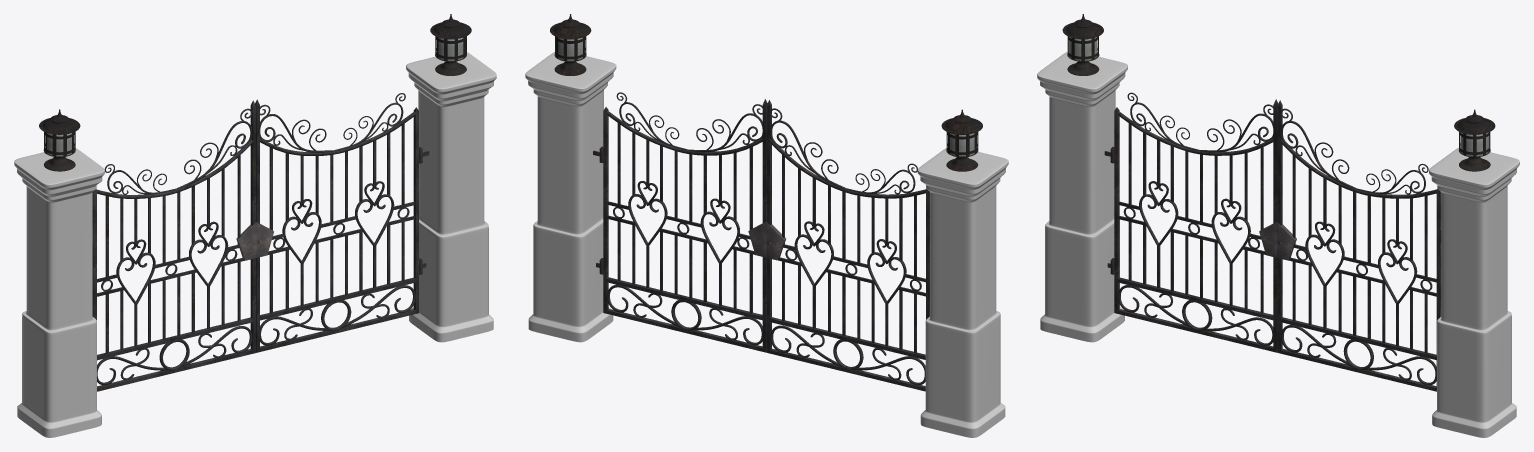
File: gate.fbx
The picture shows the model from 3 angles, left to right: view 1: azimuth 30°, elevation 25°; view 2: azimuth 150°, elevation 25°; view 3: azimuth 330°, elevation 25°; orthographic projection.
Visible parts, largest first — view 1: pillar_right, pillar_left, gate_left, gate_right, Gate_Light:lightupper, lightupper, lightlower, Gate_Light:lightlower; view 2: pillar_right, pillar_left, gate_left, gate_right, Gate_Light:lightupper, lightupper, lightlower, Gate_Light:lightlower; view 3: pillar_left, pillar_right, gate_right, gate_left, Gate_Light:lightupper, lightupper, Gate_Light:lightlower, lightlower.
Boxes of the visible parts, left/top/right/bottom form: pillar_right: left=14, top=148, right=104, bottom=437; pillar_left: left=406, top=52, right=496, bottom=342; gate_left: left=255, top=93, right=422, bottom=352; gate_right: left=92, top=100, right=256, bottom=391; Gate_Light:lightupper: left=39, top=109, right=80, bottom=156; lightupper: left=430, top=14, right=471, bottom=61; lightlower: left=435, top=37, right=466, bottom=75; Gate_Light:lightlower: left=43, top=133, right=75, bottom=171; pillar_right: left=917, top=148, right=1008, bottom=437; pillar_left: left=525, top=52, right=616, bottom=342; gate_left: left=599, top=92, right=767, bottom=352; gate_right: left=766, top=100, right=929, bottom=391; Gate_Light:lightupper: left=941, top=109, right=982, bottom=156; lightupper: left=550, top=14, right=591, bottom=61; lightlower: left=554, top=37, right=586, bottom=75; Gate_Light:lightlower: left=946, top=133, right=978, bottom=171; pillar_left: left=1429, top=147, right=1519, bottom=437; pillar_right: left=1037, top=52, right=1127, bottom=342; gate_right: left=1110, top=92, right=1278, bottom=352; gate_left: left=1277, top=100, right=1441, bottom=391; Gate_Light:lightupper: left=1062, top=14, right=1103, bottom=61; lightupper: left=1454, top=109, right=1495, bottom=156; Gate_Light:lightlower: left=1067, top=37, right=1099, bottom=75; lightlower: left=1458, top=132, right=1490, bottom=171.
Size of the model in its own units: 106 by 69.37 by 14.48.
